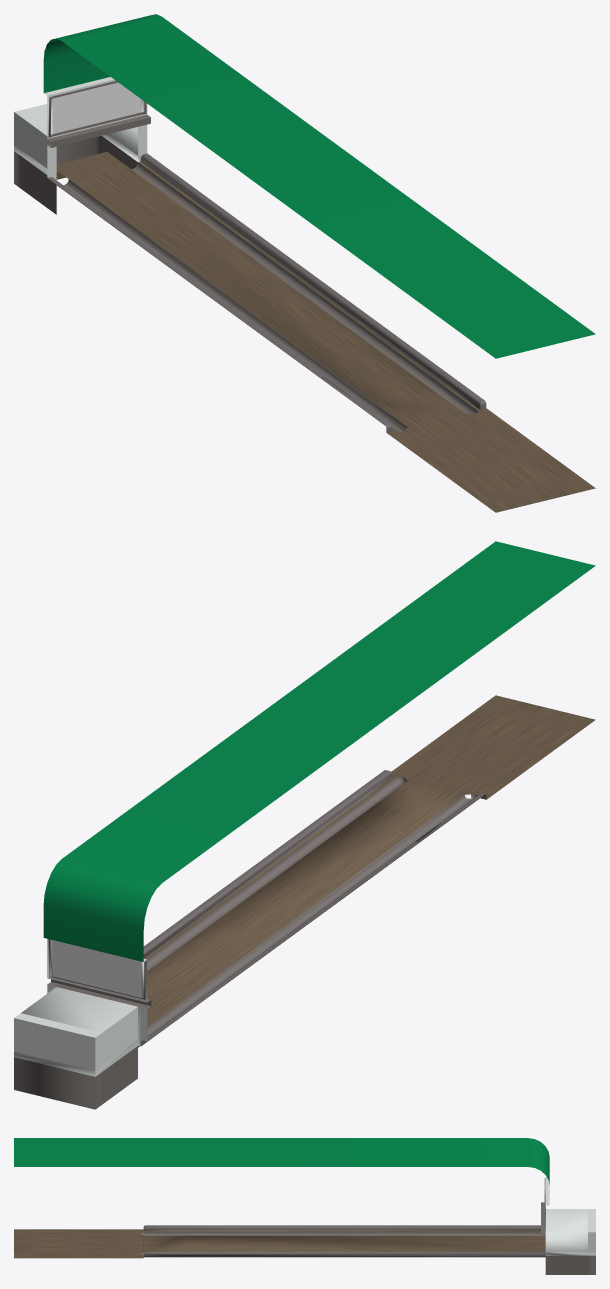
File: BowlingAlley.fbx
3 views of the same model, one above another, from view 1: azimuth 30°, elevation 25°; view 2: azimuth 150°, elevation 25°; view 3: azimuth 270°, elevation 25° (orthographic). The views are drawn at different scales.
Visible parts, largest first — view 1: Plane; view 2: Plane; view 3: Plane.
Boxes of the visible parts, bbox=[...] form: Plane: bbox=[14, 14, 595, 512]; Plane: bbox=[14, 541, 595, 1109]; Plane: bbox=[14, 1138, 595, 1274].
Bounding box in the file's own units: 3.2 × 27.17 × 5.7.
Materials: 6 (1 with a texture image).
